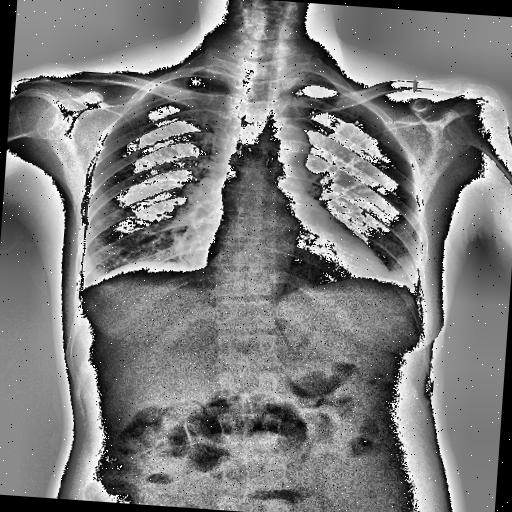0- Aortic enlargement: (248, 123, 311, 178)
3- Cardiomegaly: (202, 240, 390, 302), (202, 234, 391, 294), (200, 228, 394, 285)
